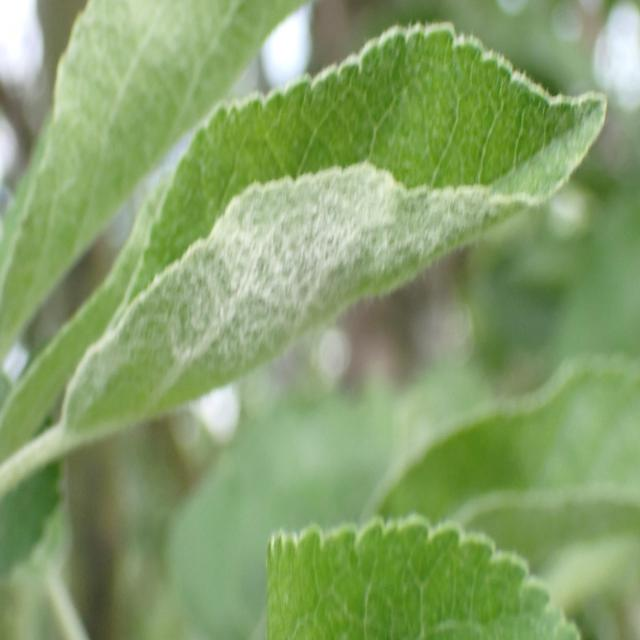Powdery_mildew: (41, 38, 592, 431), (0, 0, 255, 305)
